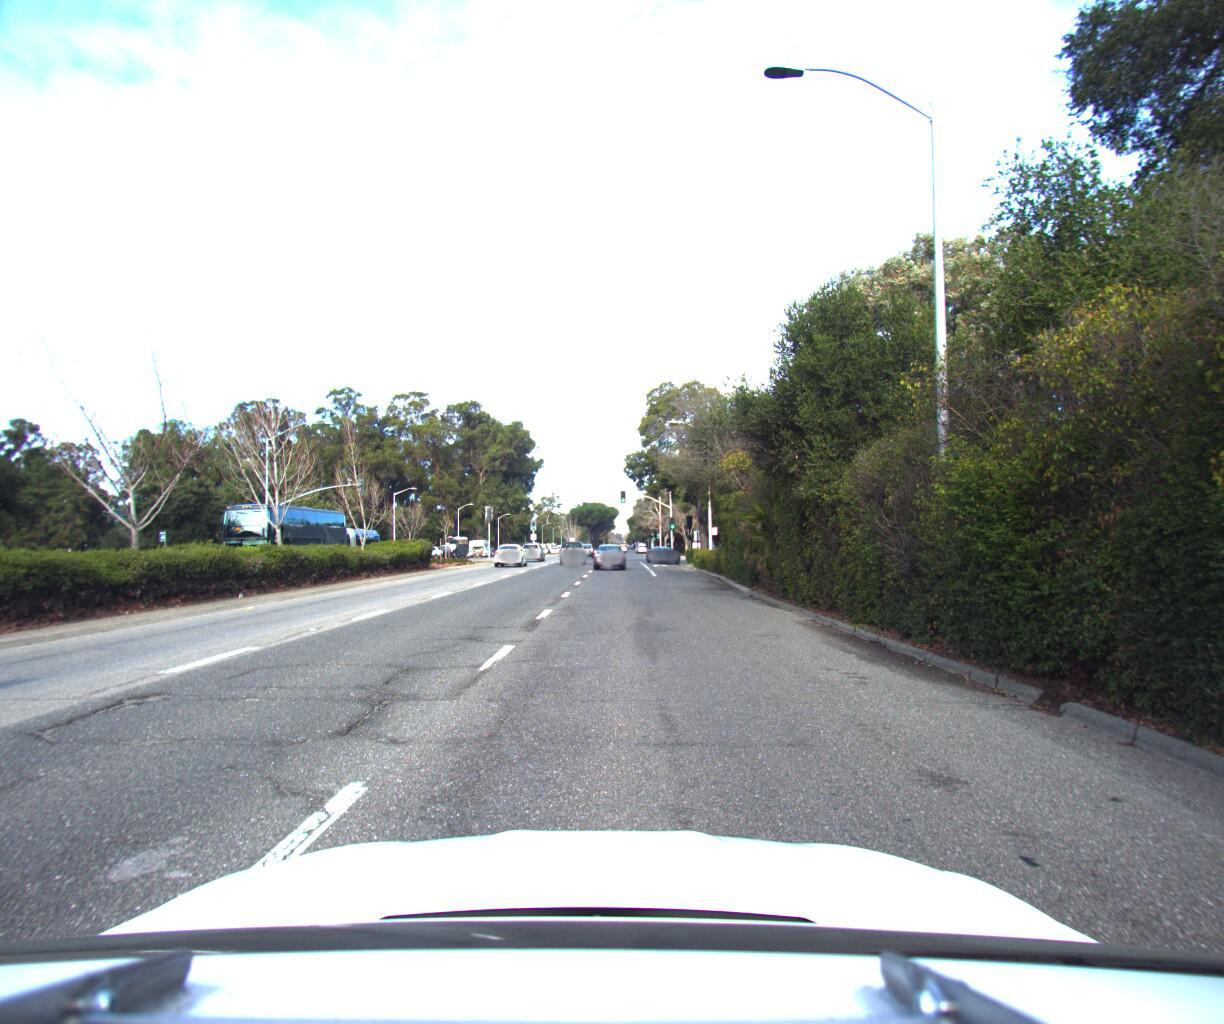bus: (223, 488, 361, 565), (266, 508, 387, 562)
car: (589, 537, 627, 564), (490, 534, 529, 560), (641, 534, 680, 554), (555, 533, 586, 556), (518, 533, 547, 553), (577, 535, 598, 551)
